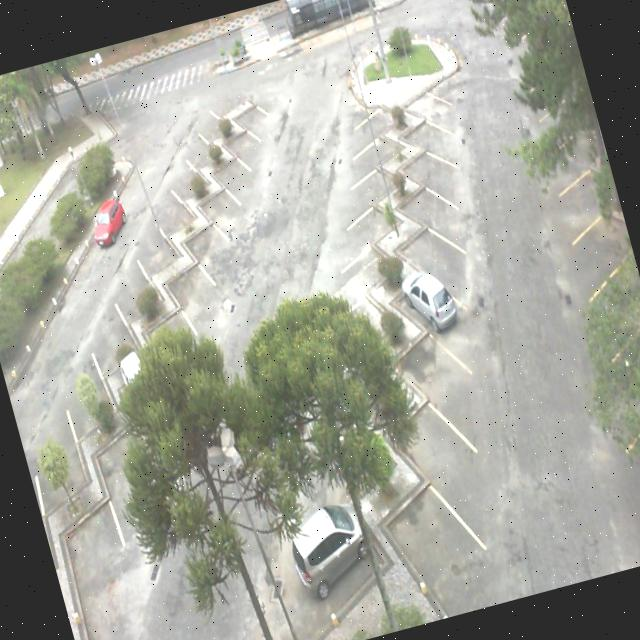empty: (372, 458, 488, 611), (378, 366, 483, 504), (388, 316, 478, 422), (392, 207, 466, 297), (391, 159, 462, 242), (326, 222, 402, 297), (82, 286, 144, 376), (392, 124, 461, 200), (334, 183, 404, 250), (396, 96, 462, 164), (336, 142, 406, 206), (105, 248, 163, 324), (162, 242, 218, 320), (176, 203, 231, 273), (128, 207, 182, 278), (192, 167, 246, 236), (340, 113, 404, 167), (401, 70, 455, 128), (160, 140, 209, 203), (214, 106, 266, 164), (174, 115, 223, 175), (204, 136, 254, 194), (145, 172, 193, 232), (226, 83, 274, 137), (352, 88, 404, 132), (190, 93, 233, 145)
occupied: (289, 492, 406, 622), (382, 245, 472, 357)
